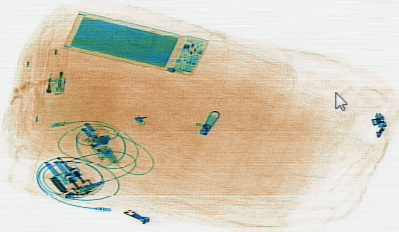lighter: (45, 40, 68, 94)
